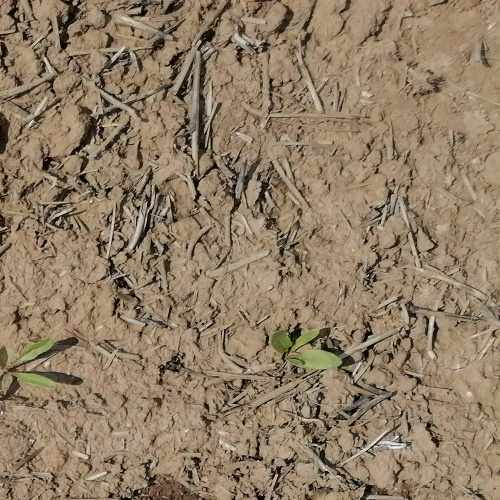beet: (269, 329, 341, 370), (0, 341, 57, 388)
